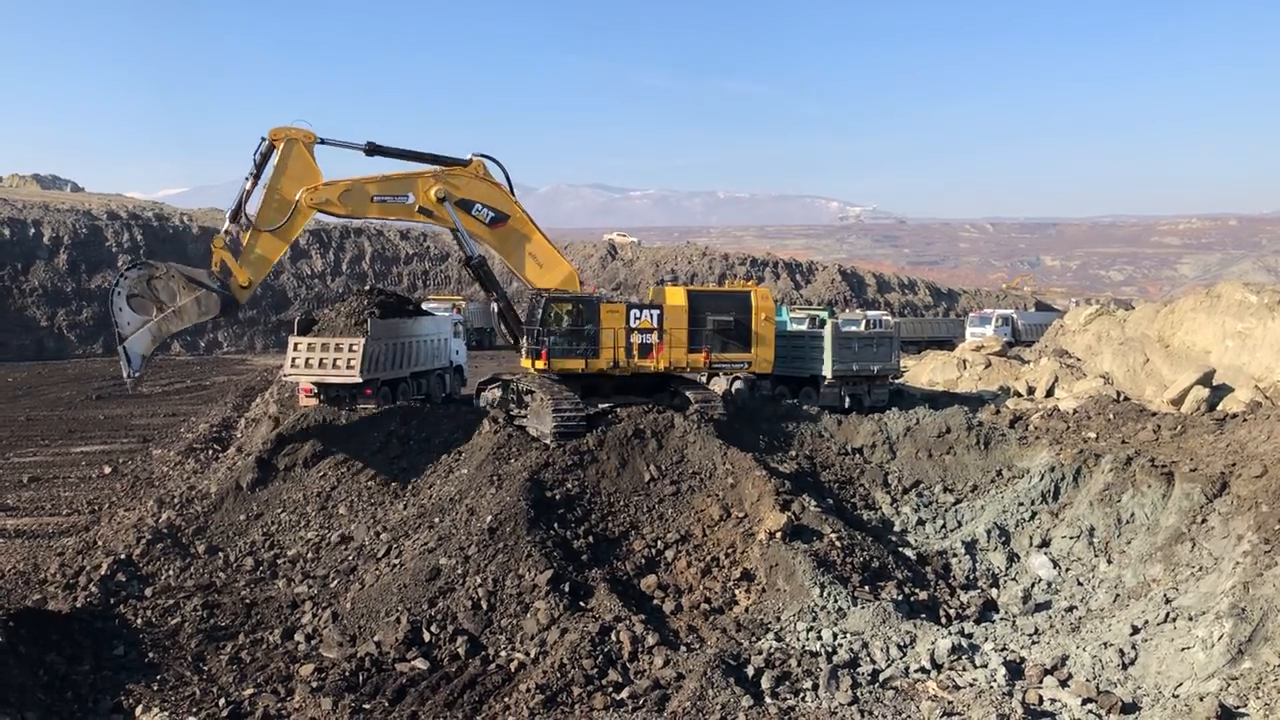empty: (97, 246, 241, 392)
